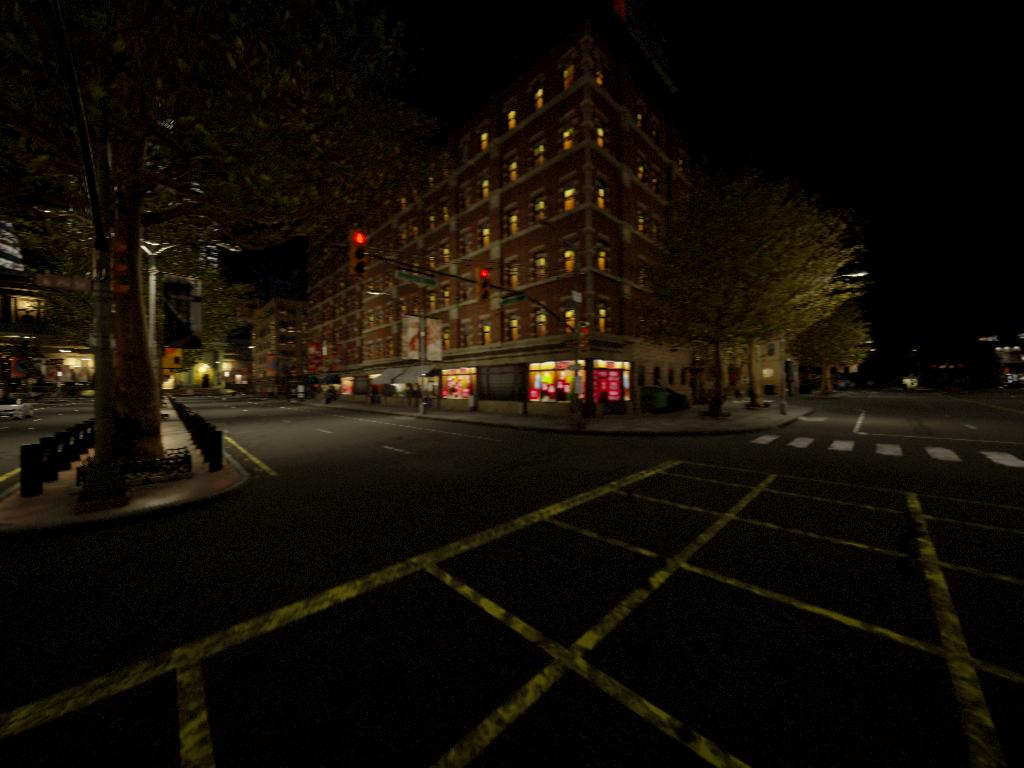traffic_light: (351, 230, 372, 276), (479, 269, 493, 296)
